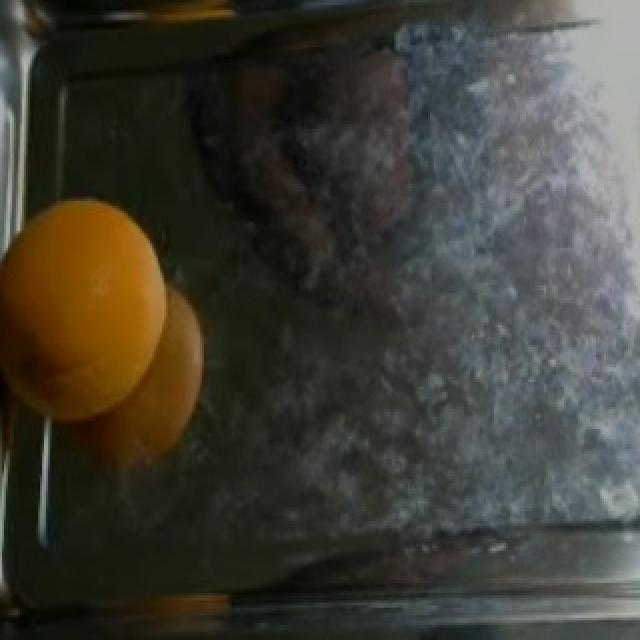Fruit: (2, 181, 182, 444), (440, 0, 640, 64)
